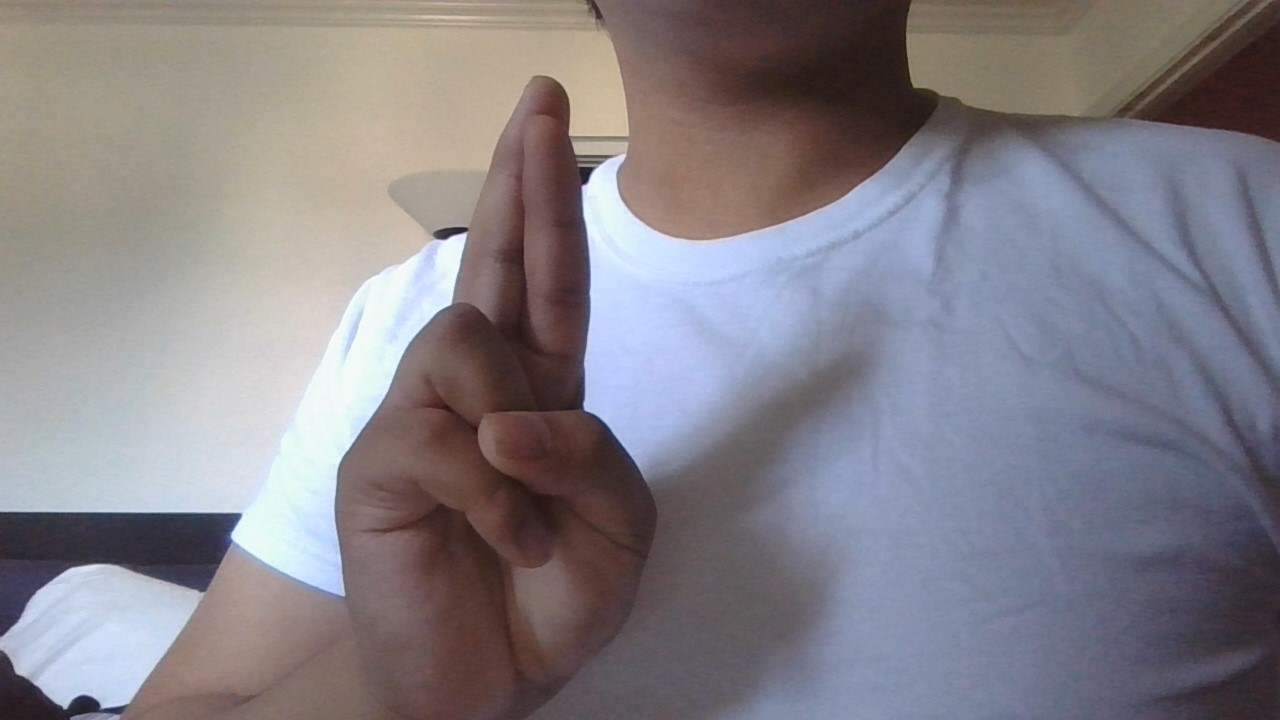r: (290, 62, 688, 720)
